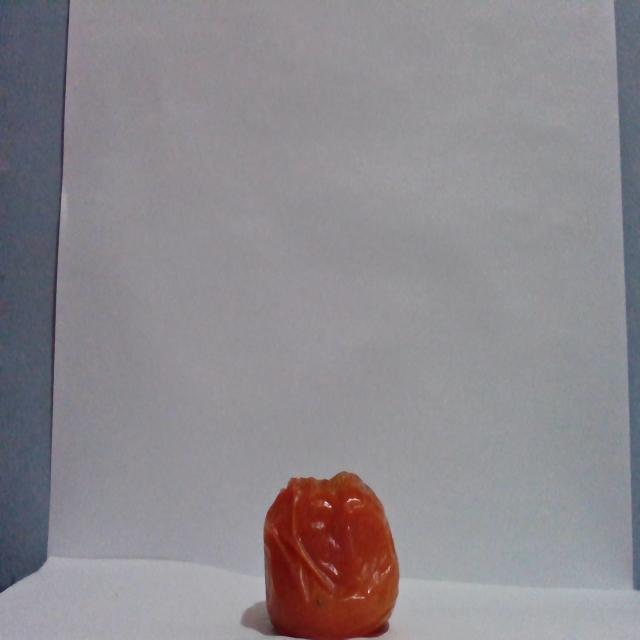Red: (261, 469, 400, 638)
